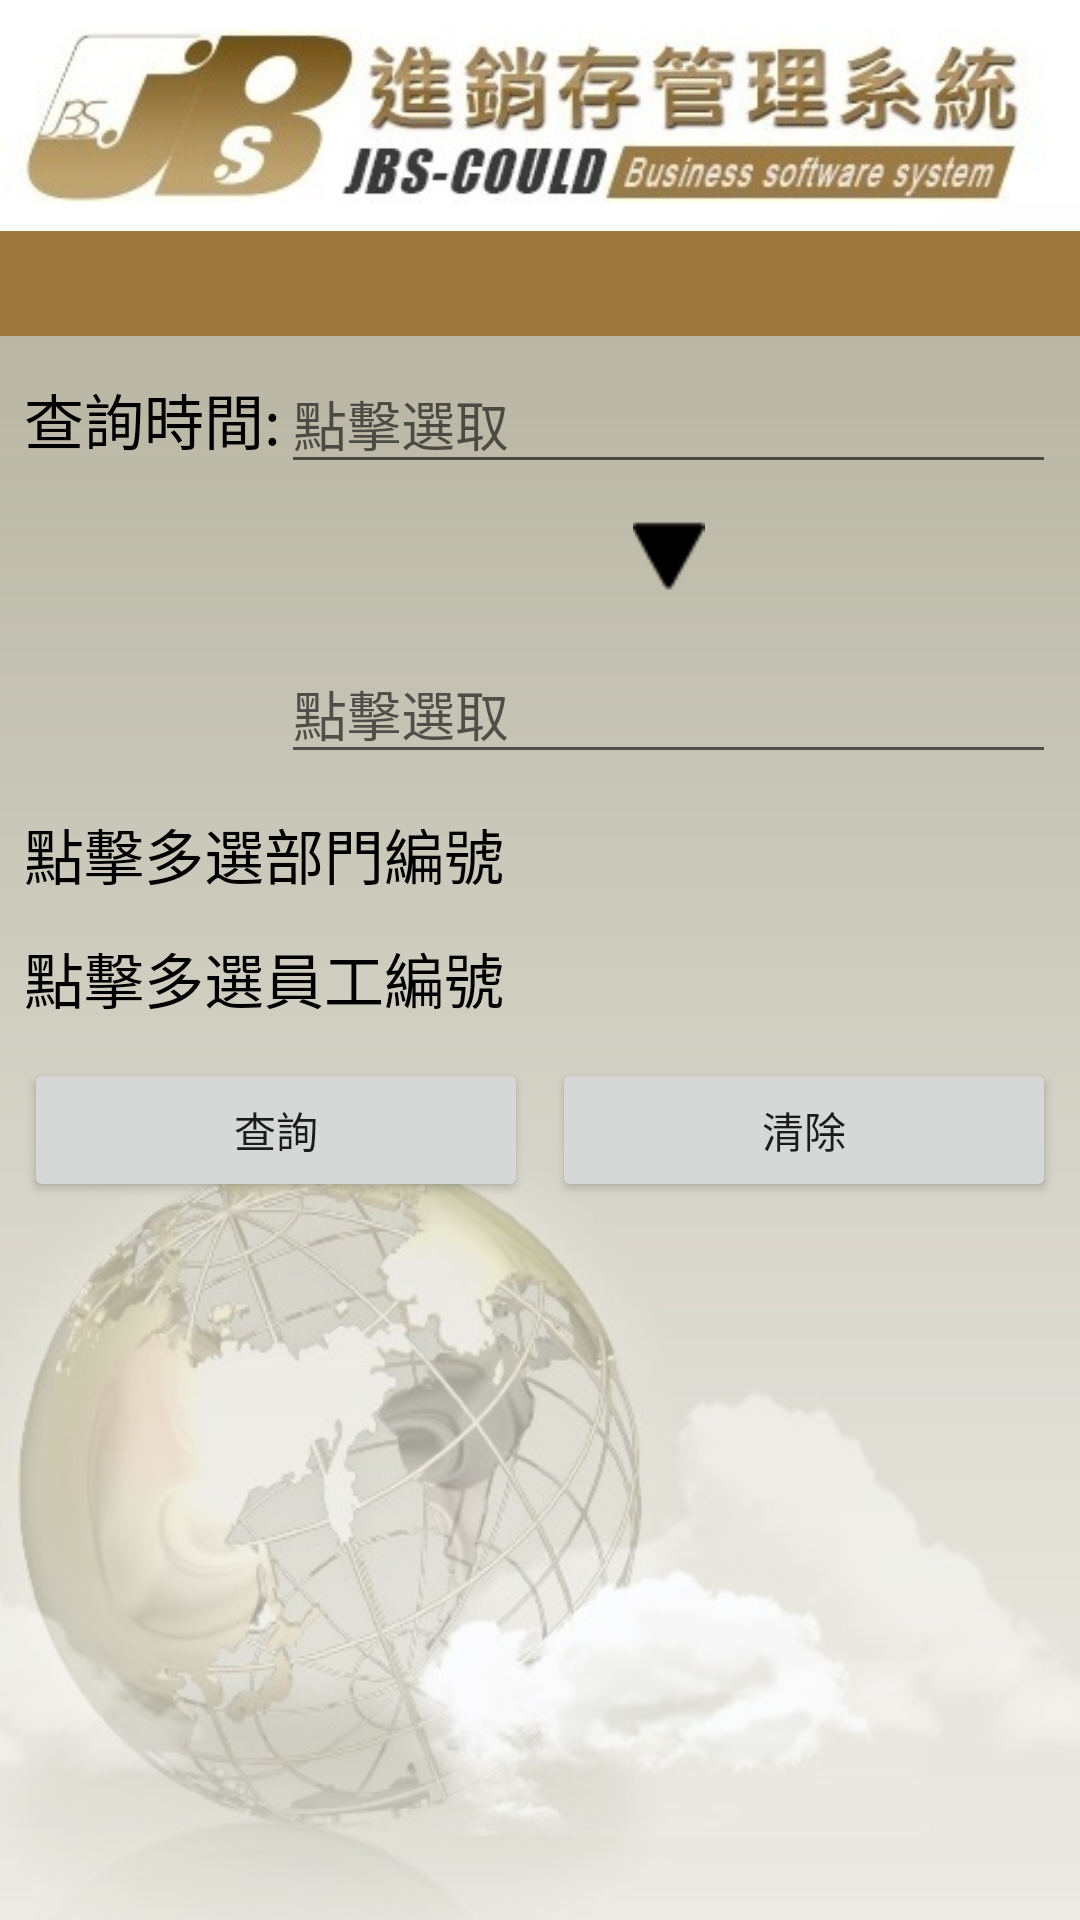

Named icons in this screenshot (1080px×1920px) and their bounding boxes, (x1, y1, x2, y2):
down arrow: (633, 522, 705, 590)
